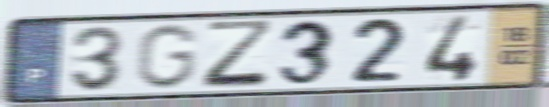2: (346, 15, 411, 86)
3: (274, 16, 346, 89), (66, 24, 126, 94)
4: (422, 12, 481, 83)
G: (132, 22, 202, 92)
Z: (201, 17, 279, 90)
